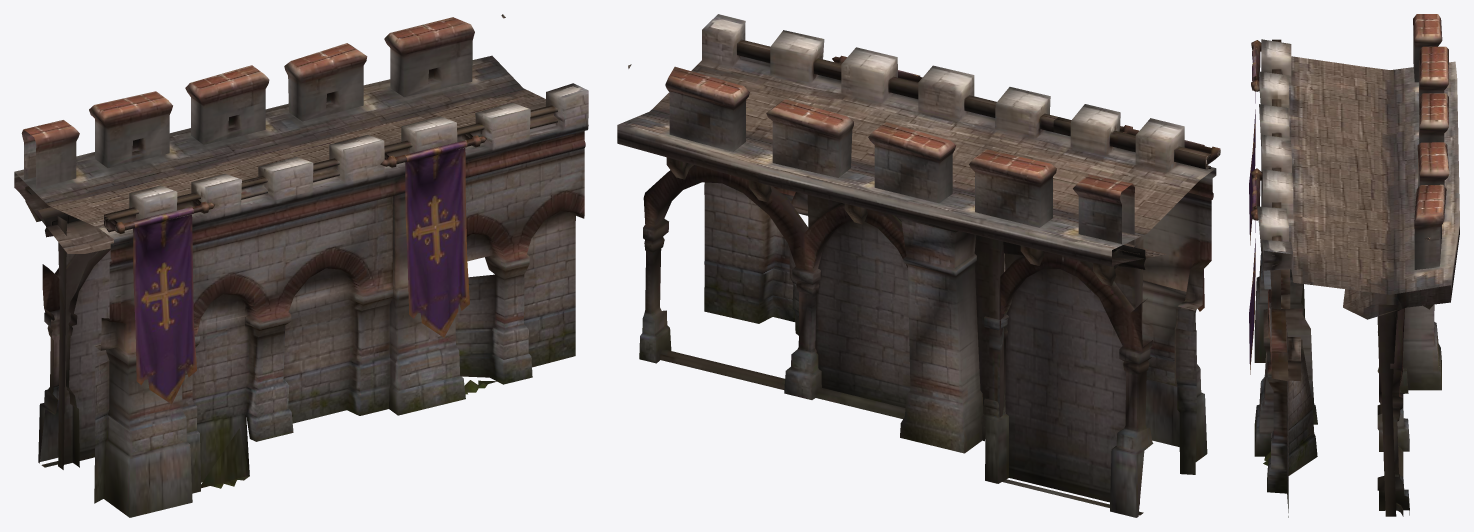
Rendered from WallRunFront_08.fbx.
3 views of the same model, side by side, from view 1: azimuth 30°, elevation 25°; view 2: azimuth 150°, elevation 25°; view 3: azimuth 270°, elevation 25° (orthographic). The views are drawn at different scales.
Visible parts, largest first — view 1: WallRunFront_08; view 2: WallRunFront_08; view 3: WallRunFront_08.
Boxes of the visible parts, x1=… form: WallRunFront_08: x1=14, y1=14, x2=588, y2=517; WallRunFront_08: x1=617, y1=14, x2=1220, y2=517; WallRunFront_08: x1=1249, y1=14, x2=1459, y2=517.
Size of the model in its own units: 985 by 650 by 389.
Materials: 1 (1 with a texture image).
